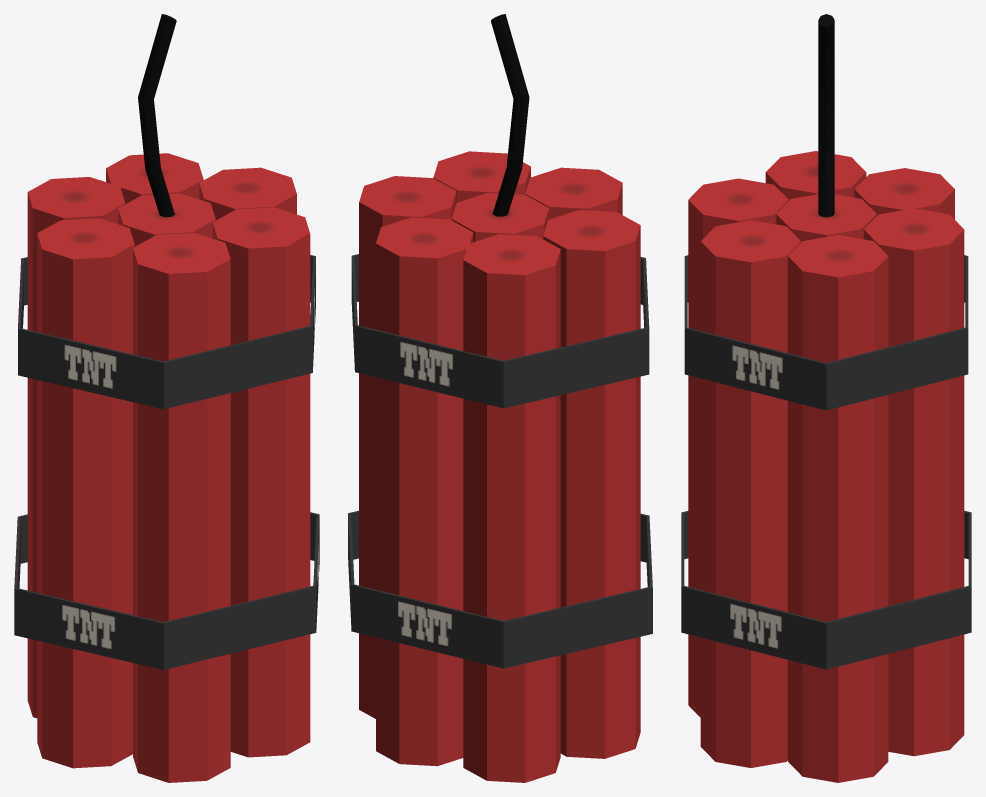
File: TNT.fbx
3 views of the same model, side by side, from view 1: azimuth 30°, elevation 25°; view 2: azimuth 150°, elevation 25°; view 3: azimuth 270°, elevation 25° (orthographic).
Parts seen in each view (by area): view 1: pCylinder14, pPipe2, pPipe1; view 2: pCylinder14, pPipe2, pPipe1; view 3: pCylinder14, pPipe2, pPipe1.
Boxes of the visible parts, <box> form: pCylinder14: <box>27,14,310,782</box>; pPipe2: <box>14,512,319,669</box>; pPipe1: <box>18,255,315,409</box>; pCylinder14: <box>359,14,640,782</box>; pPipe2: <box>348,510,652,668</box>; pPipe1: <box>351,254,649,408</box>; pCylinder14: <box>688,14,964,782</box>; pPipe2: <box>681,510,971,669</box>; pPipe1: <box>684,255,968,410</box>.
Bounding box in the file's own units: 0.8934 × 1.98 × 0.7399.
